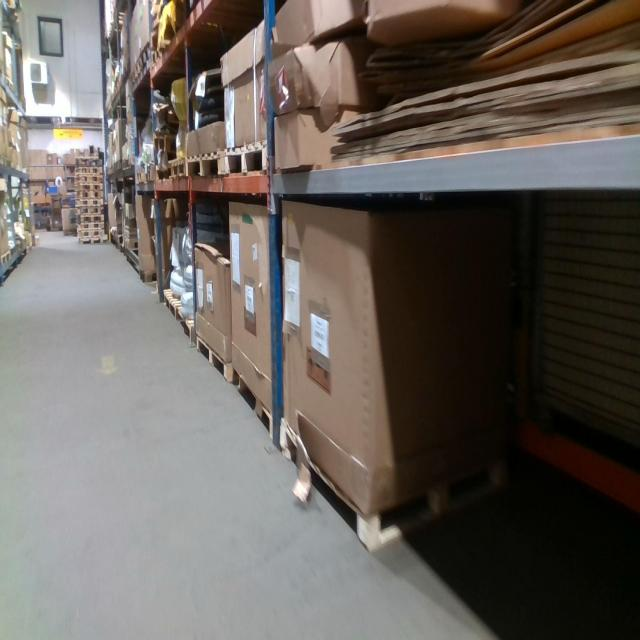pallet: (280, 421, 457, 549), (231, 364, 283, 443), (223, 136, 274, 180), (196, 332, 238, 382), (186, 147, 227, 181), (175, 305, 202, 349), (159, 285, 185, 315), (152, 131, 182, 153), (149, 37, 168, 69), (166, 154, 190, 179), (140, 44, 154, 75), (129, 63, 139, 97), (0, 244, 11, 272), (6, 71, 16, 98), (134, 168, 146, 189), (143, 166, 155, 186), (123, 237, 139, 252), (16, 235, 27, 254), (137, 52, 141, 84)
stillage: (524, 192, 639, 462)
